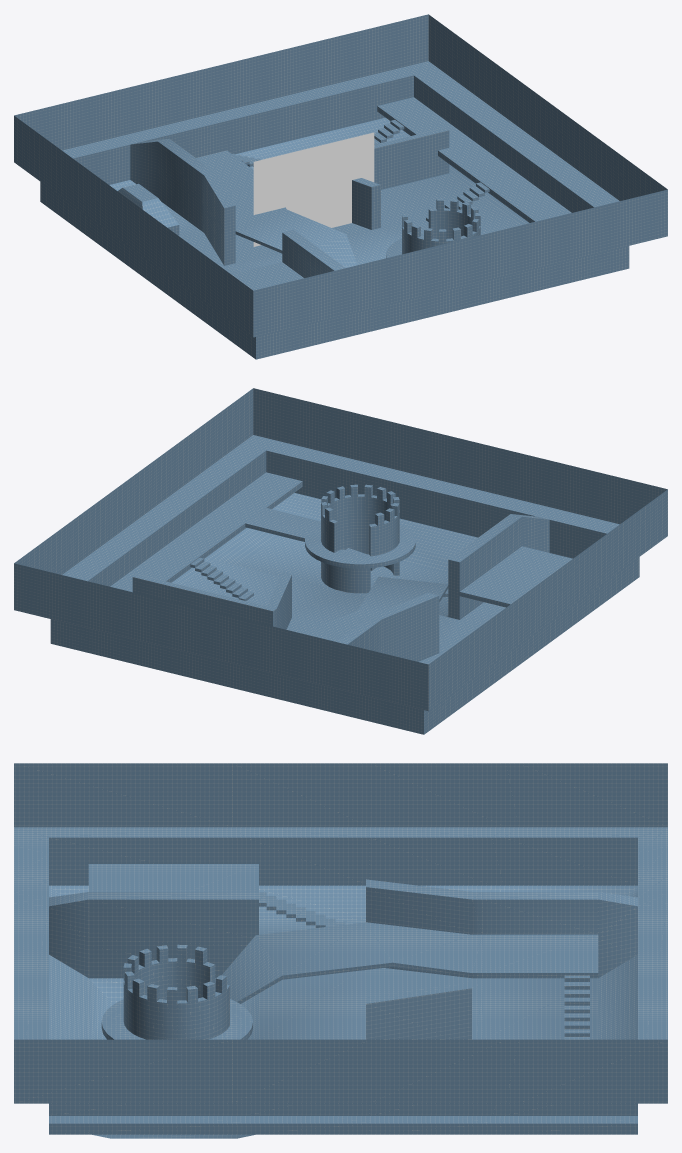
The model's file is collision-world-with-plane.glb.
The picture shows the model from 3 angles, top to bottom: view 1: azimuth 30°, elevation 25°; view 2: azimuth 150°, elevation 25°; view 3: azimuth 270°, elevation 25°; orthographic projection. The views are drawn at different scales.
Visible parts, largest first — view 1: Cube004, Plane; view 2: Cube004; view 3: Cube004.
Part boxes in pixels (x1,y1,x2,y2): Cube004: (14,14,667,359); Plane: (253,132,374,246); Cube004: (14,388,667,734); Cube004: (14,763,667,1138).
Bounding box in the file's own units: 34.36 × 10.7 × 34.36.
Materials: 2 (1 with a texture image).
